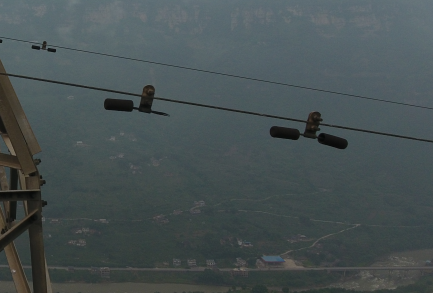damper: (267, 111, 351, 150), (30, 39, 58, 53)
damper_defect: (100, 82, 170, 118)
